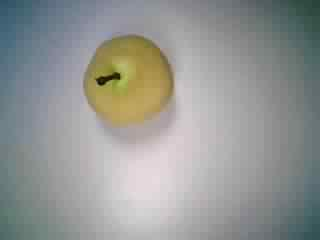pear: (69, 28, 177, 133)
